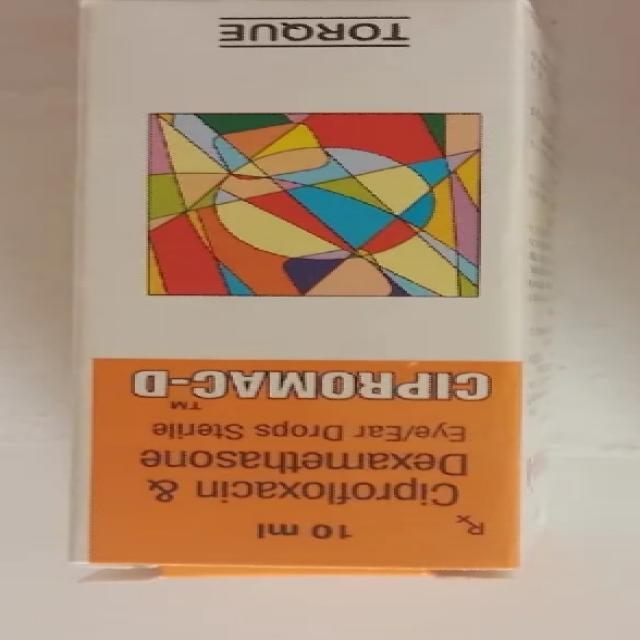drug-name: (182, 472, 472, 511)
